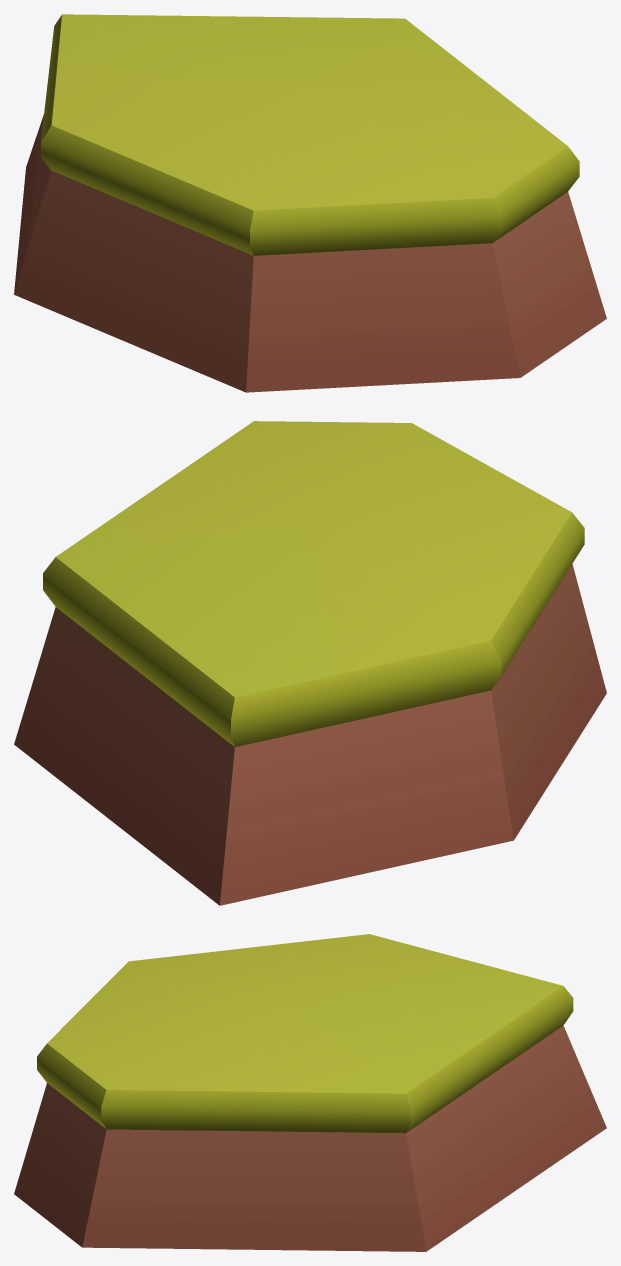
Rendered from hill_single_b.glb.
3 views of the same model, one above another, from view 1: azimuth 30°, elevation 25°; view 2: azimuth 150°, elevation 25°; view 3: azimuth 270°, elevation 25° (orthographic). The views are drawn at different scales.
Parts seen in each view (by area): view 1: hill_single_B; view 2: hill_single_B; view 3: hill_single_B.
Boxes of the visible parts, <box> form: hill_single_B: <box>14,14,606,392</box>; hill_single_B: <box>14,421,606,905</box>; hill_single_B: <box>14,934,606,1251</box>.
Bounding box in the file's own units: 0.995 × 0.4187 × 1.36.
Materials: 1 (1 with a texture image).
